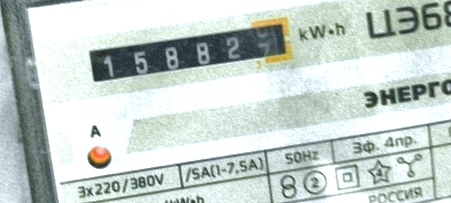1: (100, 53, 115, 81)
2: (223, 36, 242, 63)
5: (131, 50, 148, 78)
7: (255, 40, 272, 59)
8: (162, 45, 181, 72), (193, 41, 212, 68)
screen: (77, 12, 302, 99)
